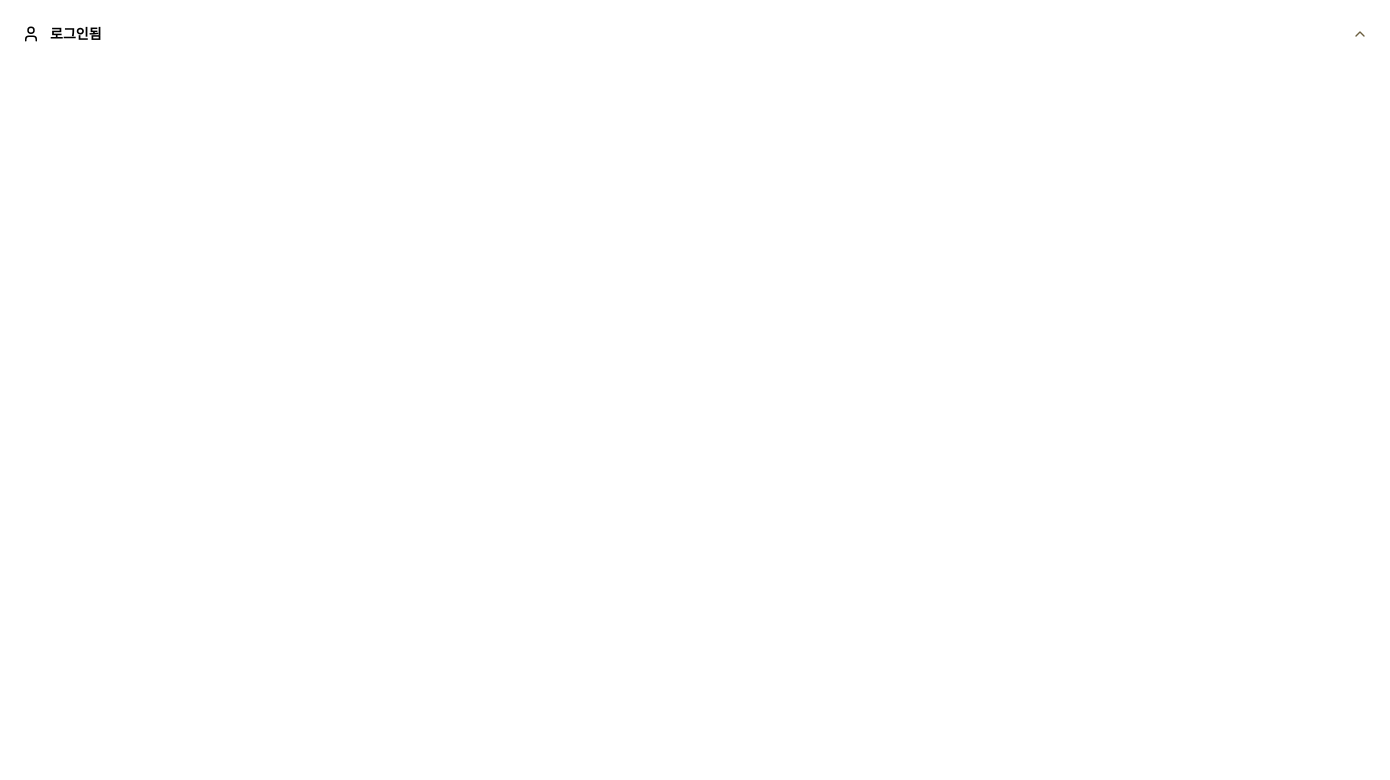
Test case: 계정 메뉴 팝오버 › 바깥을 누르면 닫힌다
Click the button with test id "account-menu-button".
click(76, 34)  # box [12,12,1378,56]
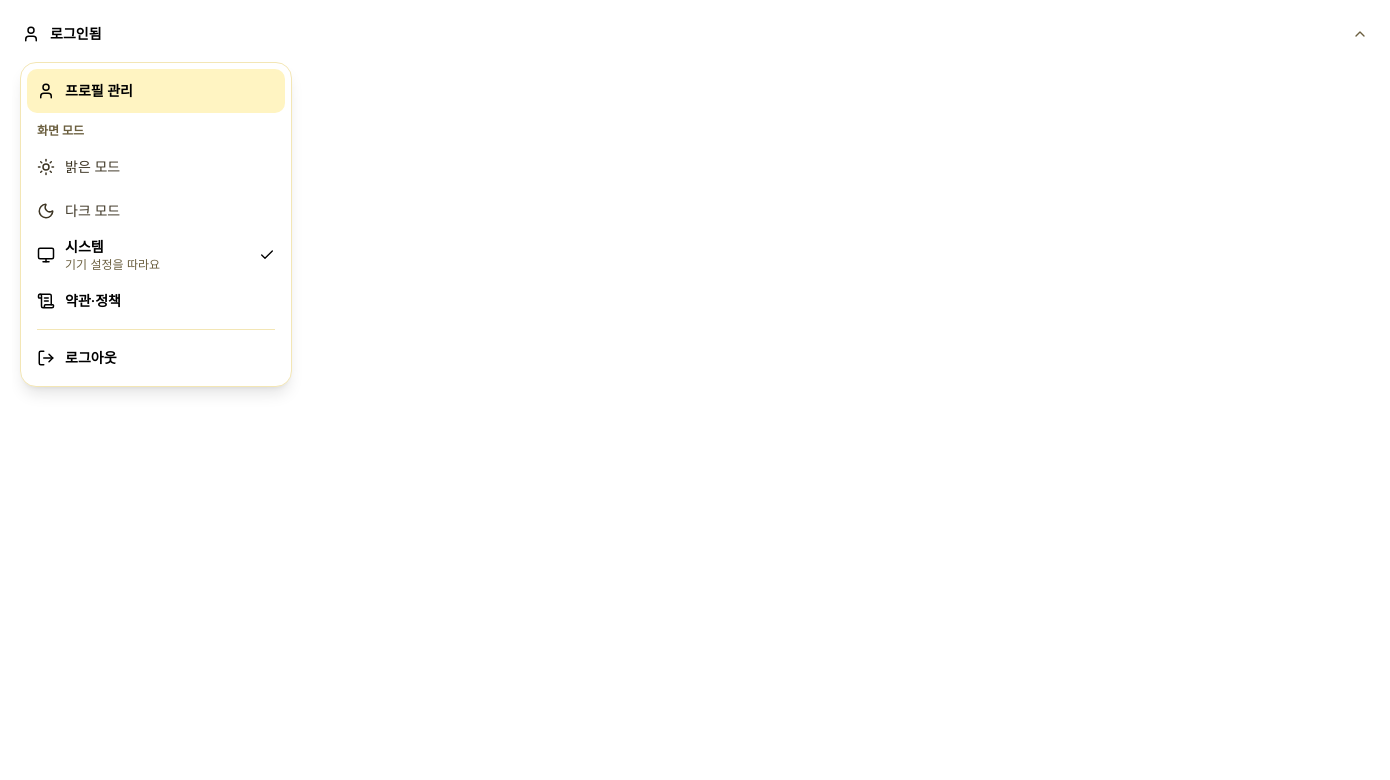
Expected: the menu with test id "account-menu" is shown, [20,62,292,387]
Click the element showing "로그인됨 프로필 관리 화면 모드 밝은 모드 다크 모드 시스템 기기 설정을 따라요 약관·정책 로그아웃".
click(695, 396)  # box [12,12,1378,779]
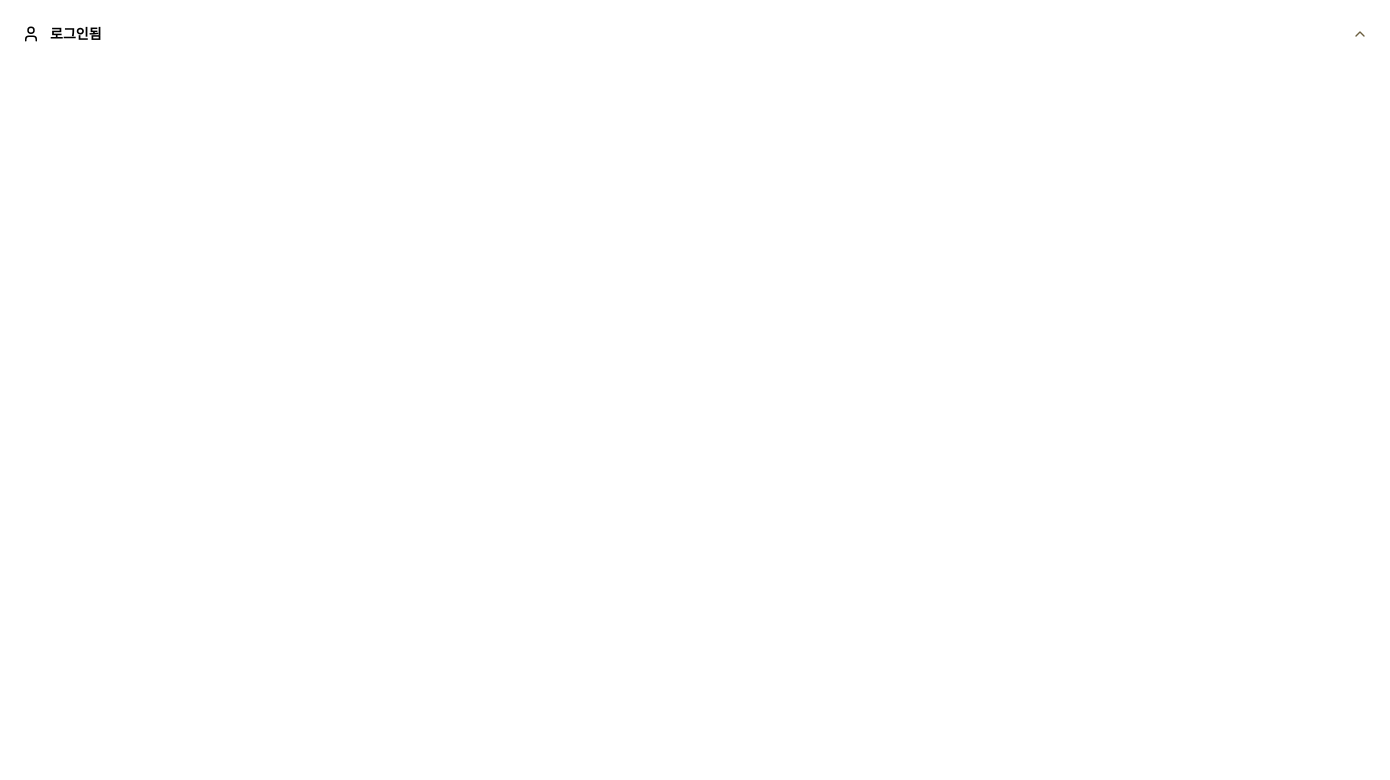
Expected: the menu with test id "account-menu" is gone
